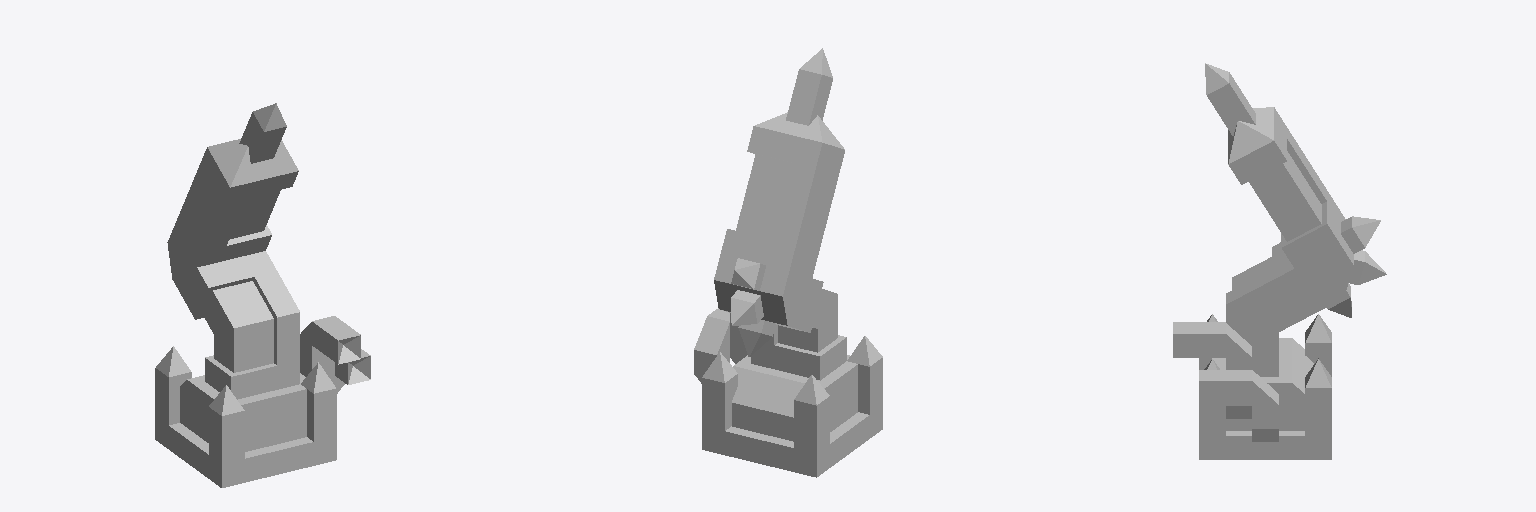
The model's file is leg_rocket_r.obj.
3 views of the same model, side by side, from view 1: azimuth 30°, elevation 25°; view 2: azimuth 150°, elevation 25°; view 3: azimuth 270°, elevation 25° (orthographic).
Visible parts, largest first — view 1: LEG_RIGHT_ROCKET_Cube.063, LEG_RIGHT_DECO_IRON_Cube.158, LEG_RIGHT_DECO_IRON_OUTERFOOT_Cube.159; view 2: LEG_RIGHT_ROCKET_Cube.063, LEG_RIGHT_DECO_IRON_Cube.158, LEG_RIGHT_DECO_IRON_OUTERFOOT_Cube.159; view 3: LEG_RIGHT_ROCKET_Cube.063, LEG_RIGHT_DECO_IRON_Cube.158, LEG_RIGHT_DECO_IRON_OUTERFOOT_Cube.159.
Part boxes in pixels (bbox=[...]): LEG_RIGHT_ROCKET_Cube.063: bbox=[155, 139, 370, 487]; LEG_RIGHT_DECO_IRON_Cube.158: bbox=[155, 103, 286, 463]; LEG_RIGHT_DECO_IRON_OUTERFOOT_Cube.159: bbox=[301, 362, 336, 441]; LEG_RIGHT_ROCKET_Cube.063: bbox=[694, 112, 882, 477]; LEG_RIGHT_DECO_IRON_Cube.158: bbox=[731, 48, 882, 453]; LEG_RIGHT_DECO_IRON_OUTERFOOT_Cube.159: bbox=[702, 352, 737, 430]; LEG_RIGHT_ROCKET_Cube.063: bbox=[1173, 107, 1353, 459]; LEG_RIGHT_DECO_IRON_Cube.158: bbox=[1199, 63, 1386, 376]; LEG_RIGHT_DECO_IRON_OUTERFOOT_Cube.159: bbox=[1199, 358, 1331, 435].
Bounding box in the file's own units: 0.4062 × 0.9599 × 0.506.